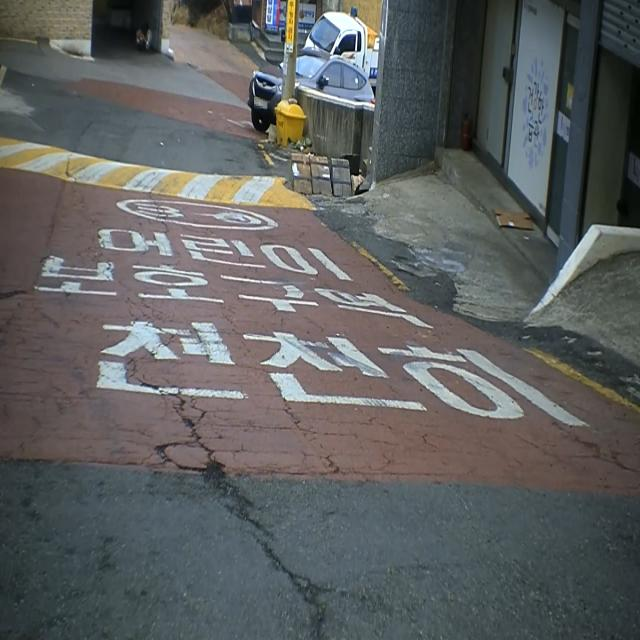Pothole: (155, 377, 332, 640)
